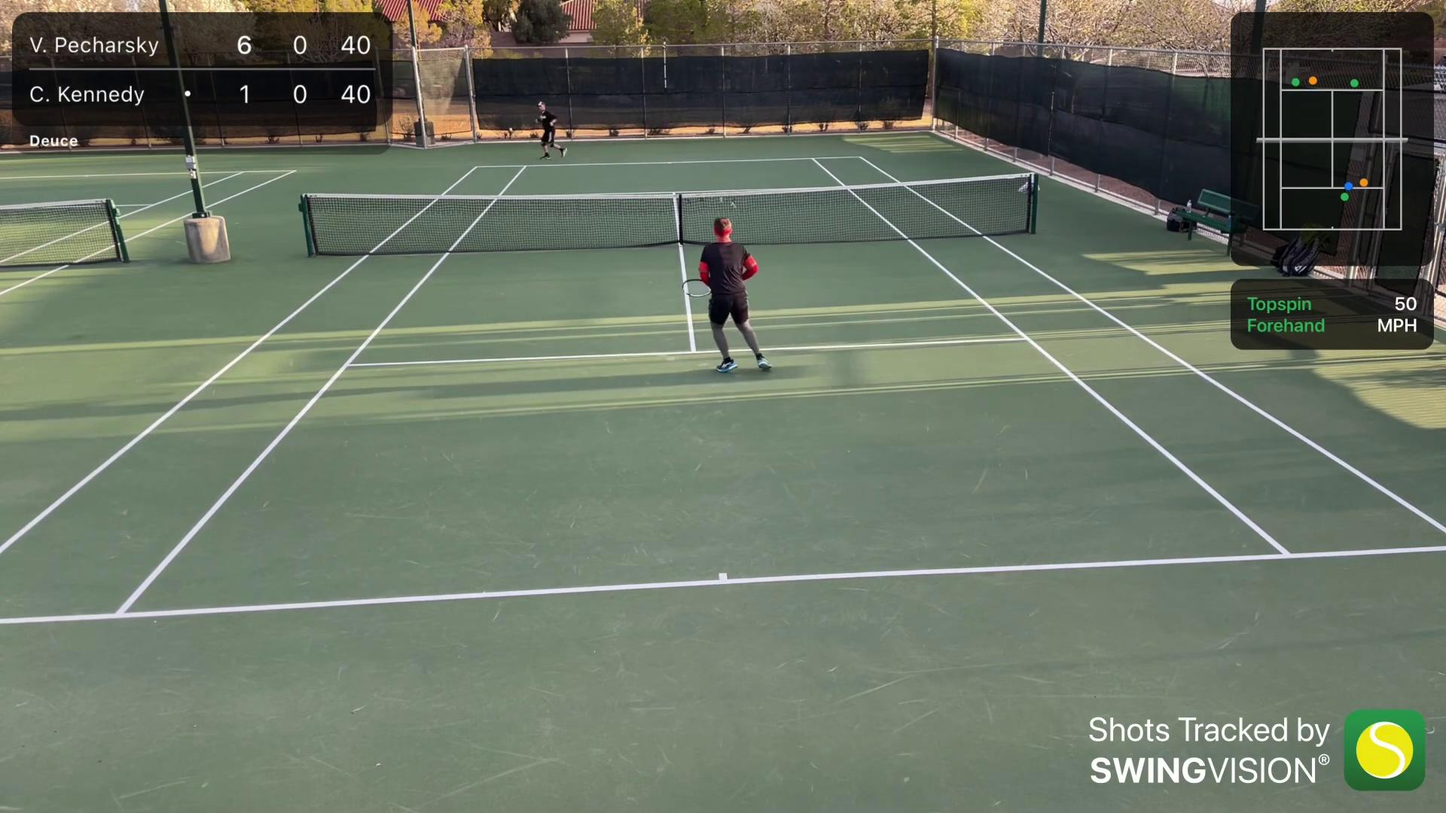ball: (507, 127, 514, 132)
